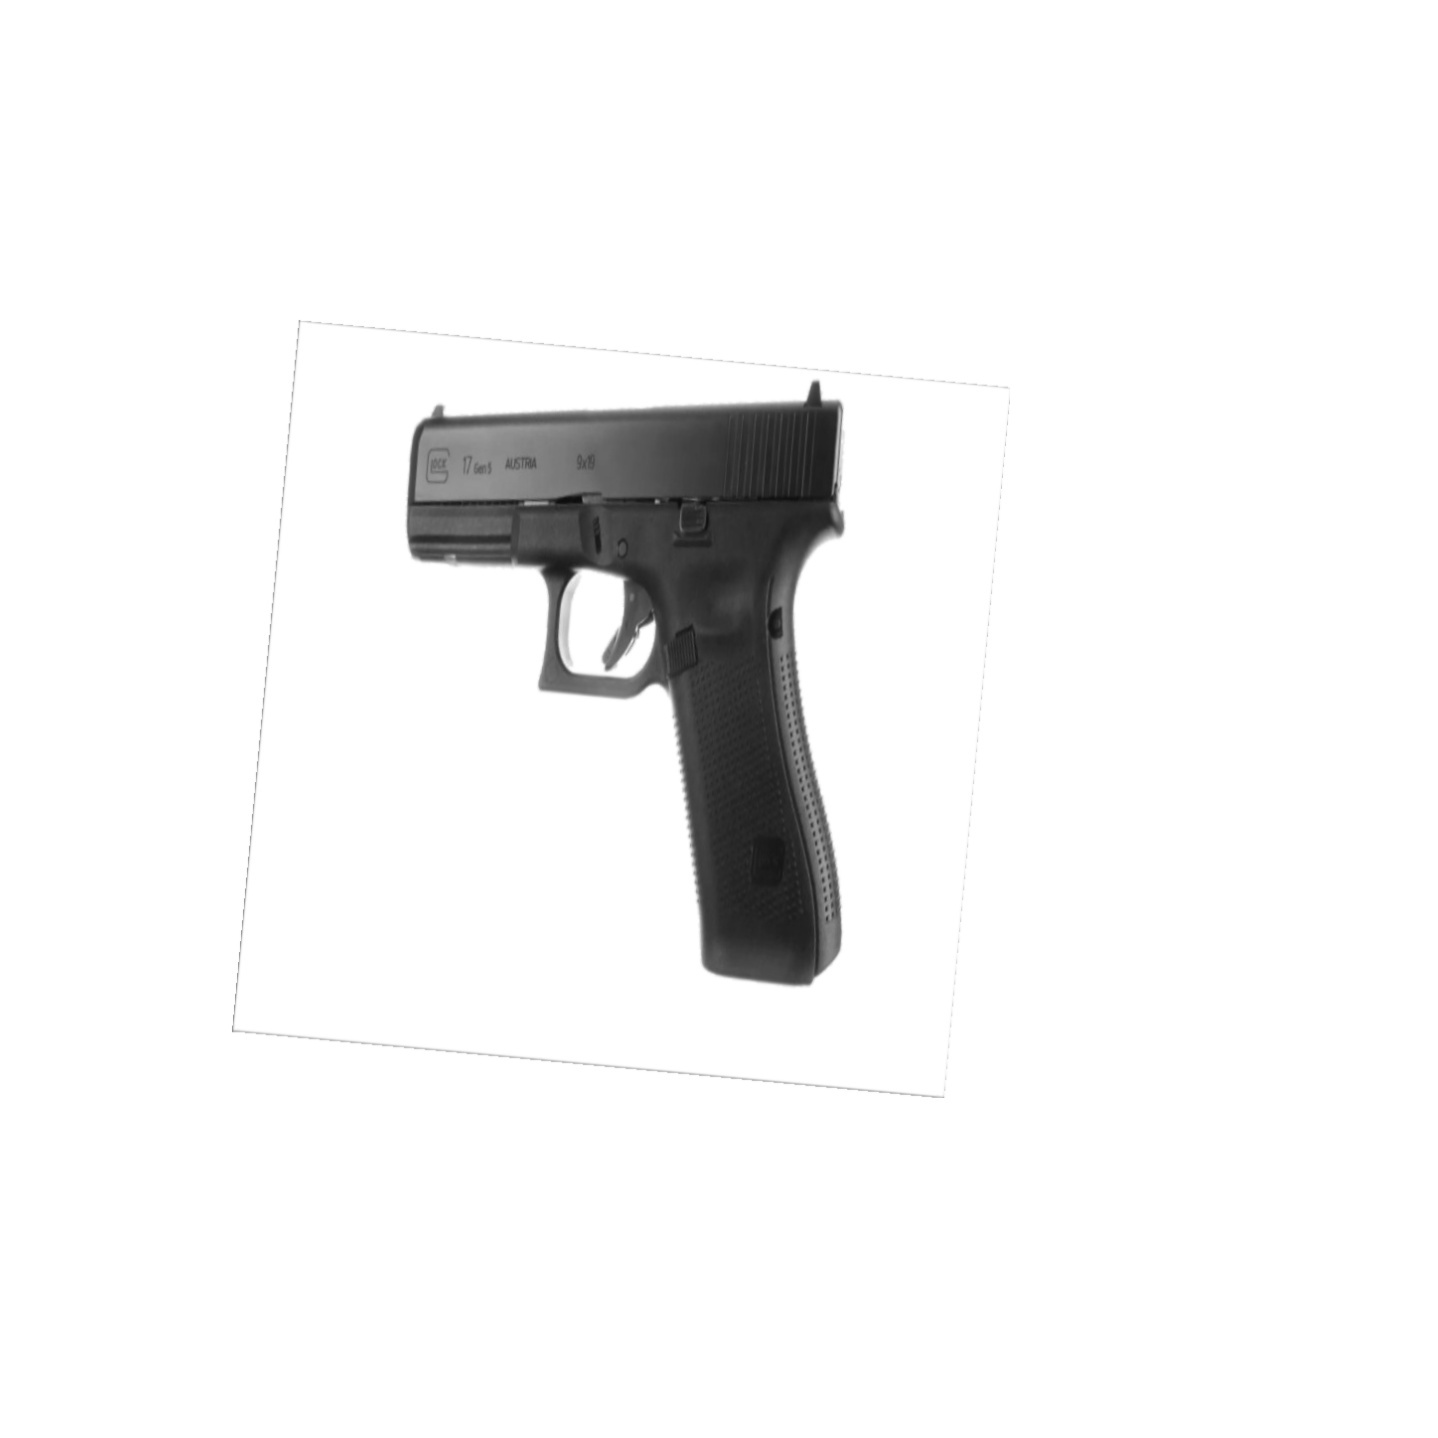gun: (402, 375, 857, 992)
